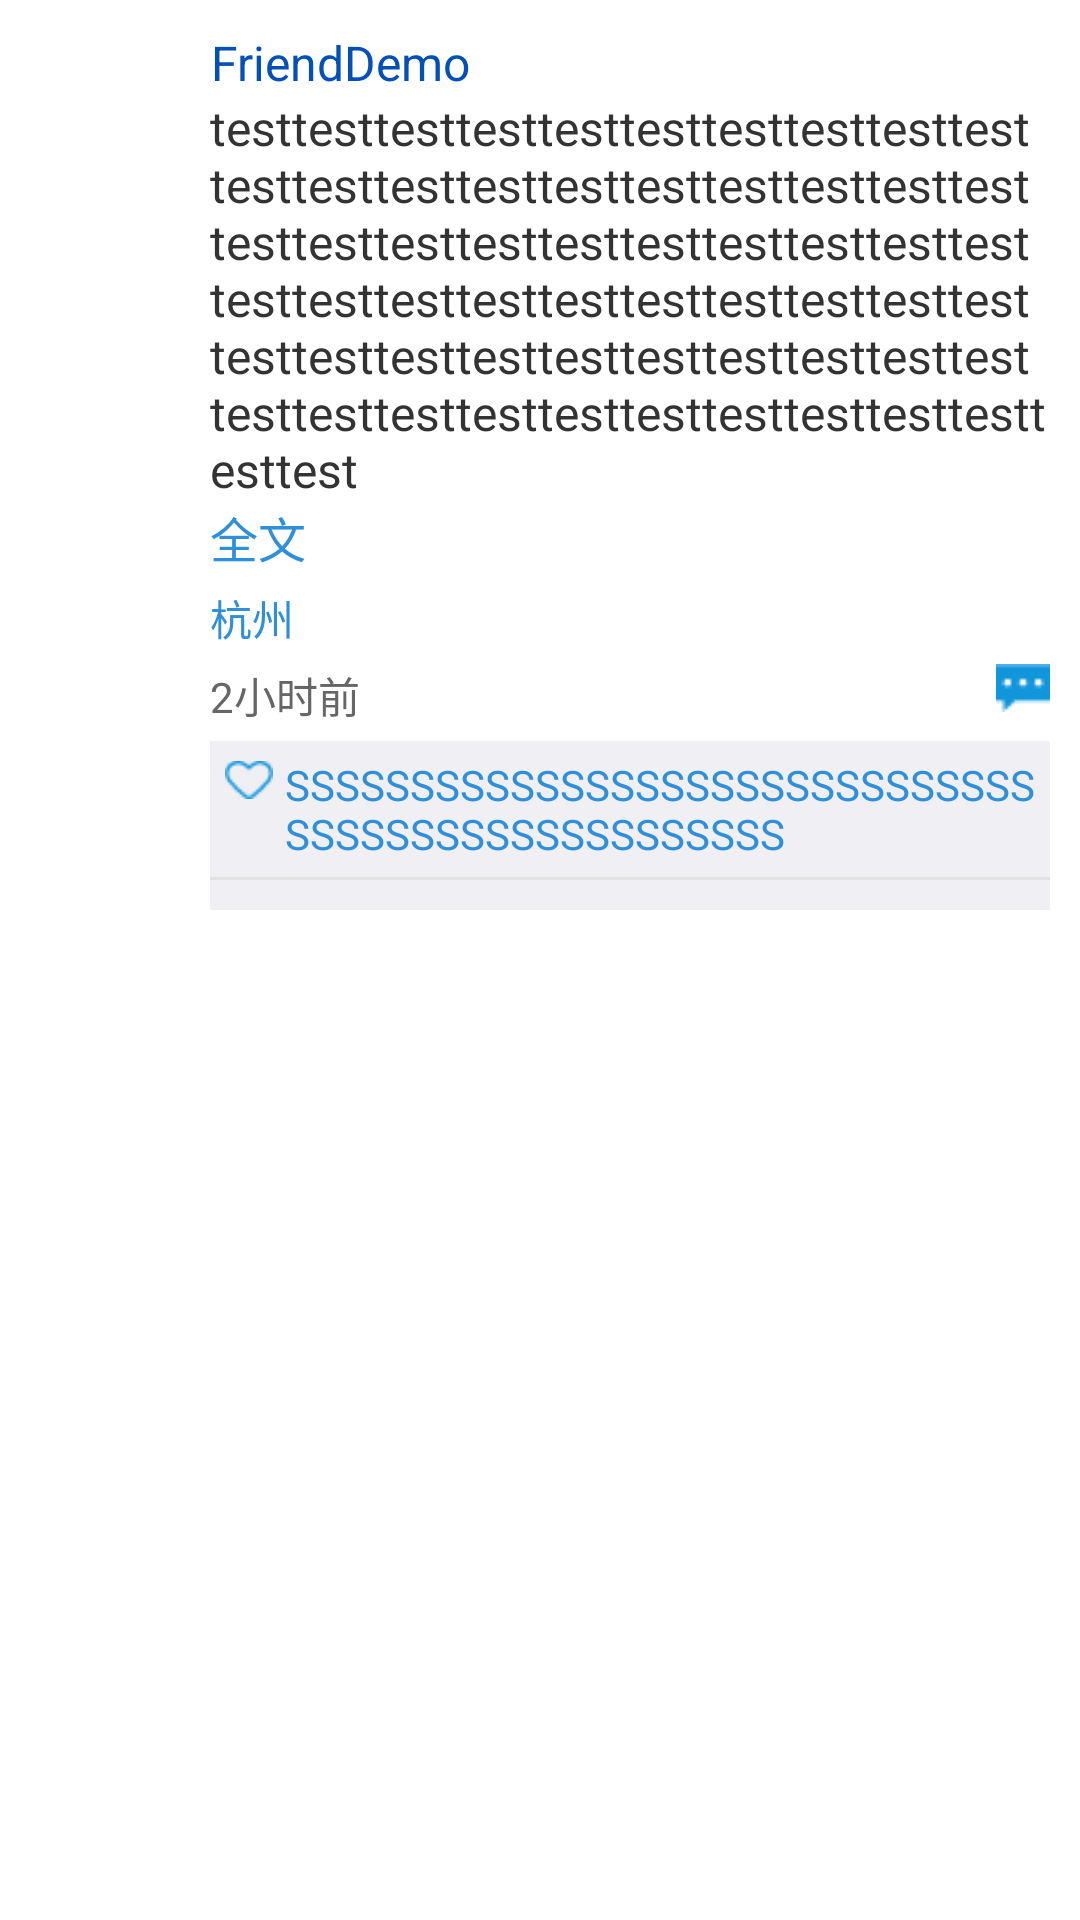

Locate icon controls on the screen. Image size 1080x1920, boxes as [x1=x1, y1=y1, x2=x2, y2=y2].
comments: [x1=996, y1=664, x2=1050, y2=712]
like: [x1=225, y1=761, x2=273, y2=799]
